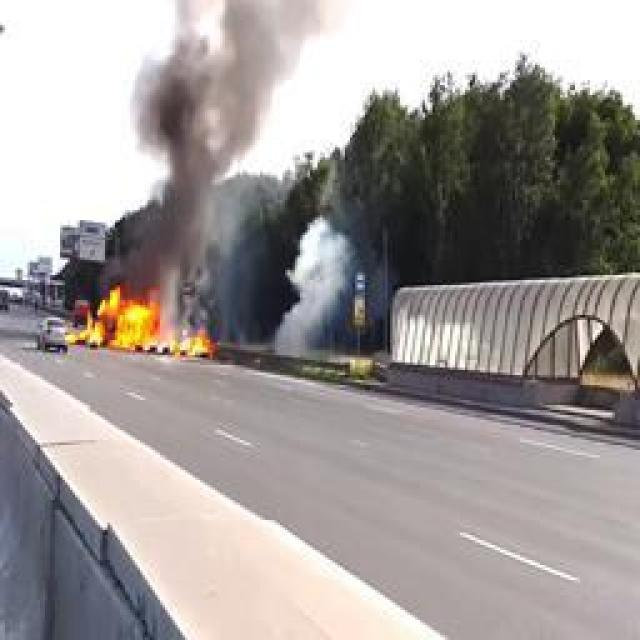Fire: (70, 288, 212, 358)
